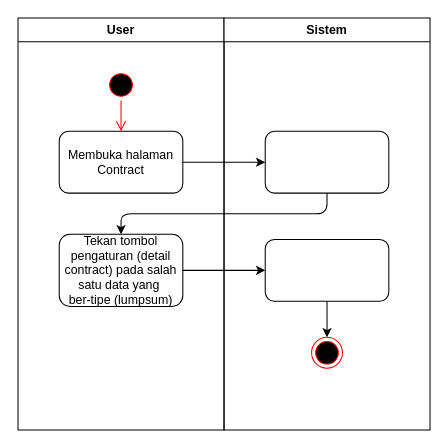
Image size: 448x448. Some labels were removed from this diagram. Each missing label, with the centre of its shape:
"Menampilkan detail contract beserta termin-nya" belongs at [326,269].
"Menampilkan halaman Contract" belongs at [326,161].
